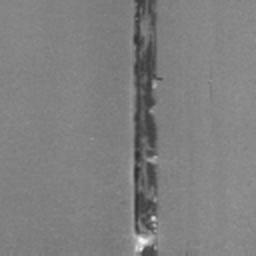Slag inclusion: (132, 0, 163, 256)
